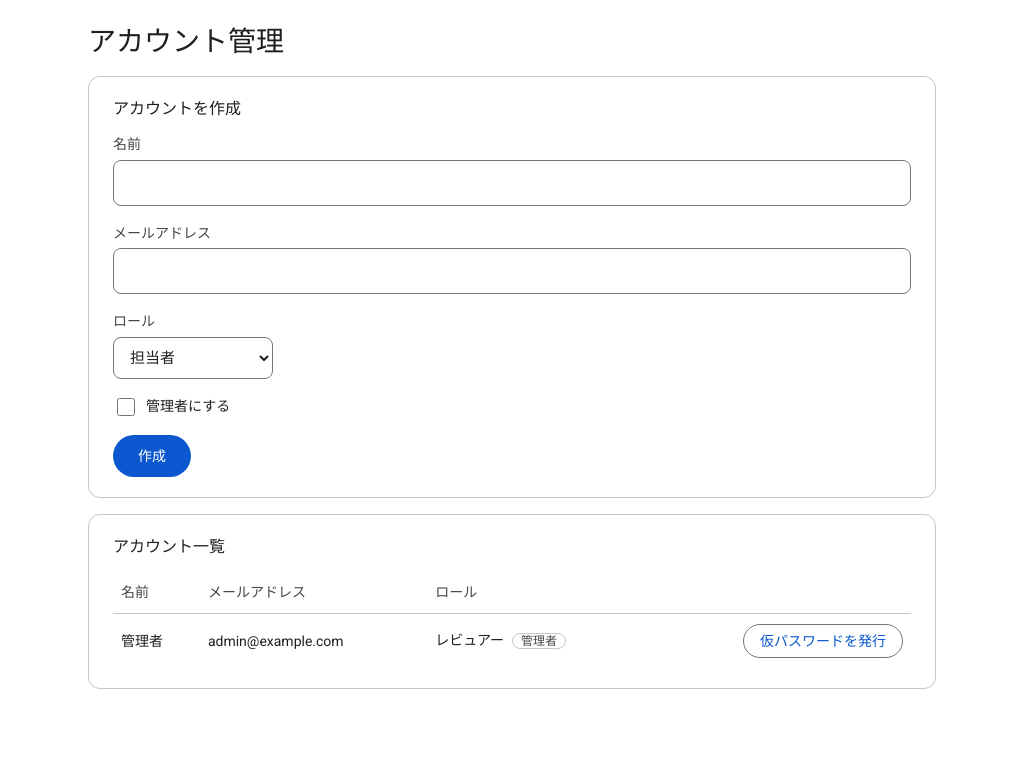
Test case: アカウント管理 › アカウントを作ると、仮パスワードを表示し、一覧に足す
Type "鈴木" into the field labelled "名前" at (512, 183), box x1=113 y1=160 x2=911 y2=206
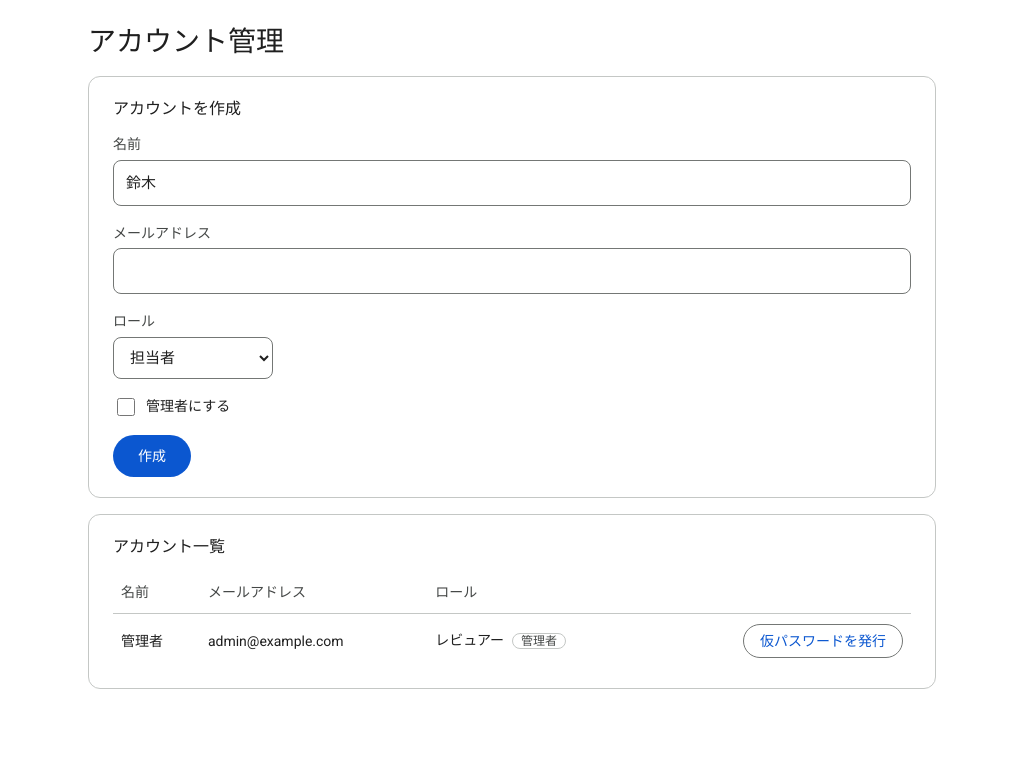
Type "suzuki@example.com" into the field labelled "メールアドレス" at (512, 271), box x1=113 y1=248 x2=911 y2=294
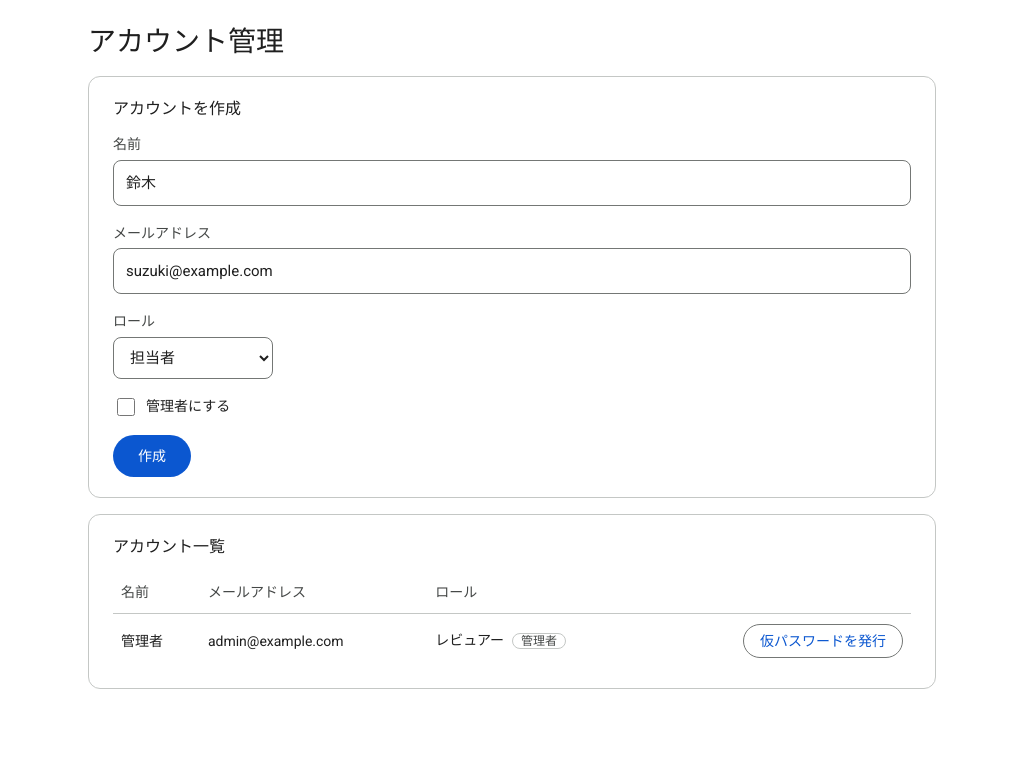
Select "レビュアー" in the dropdown labelled "ロール" at (193, 358), box x1=113 y1=337 x2=273 y2=379
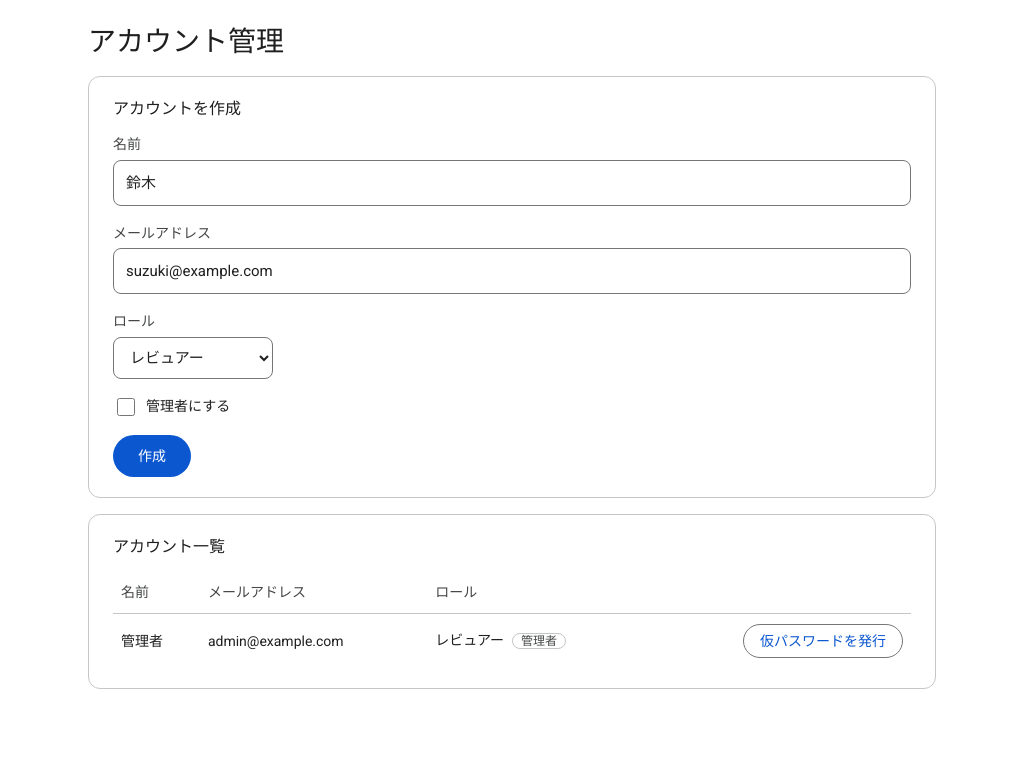
Click the button "作成" at (152, 456), box x1=113 y1=435 x2=191 y2=477
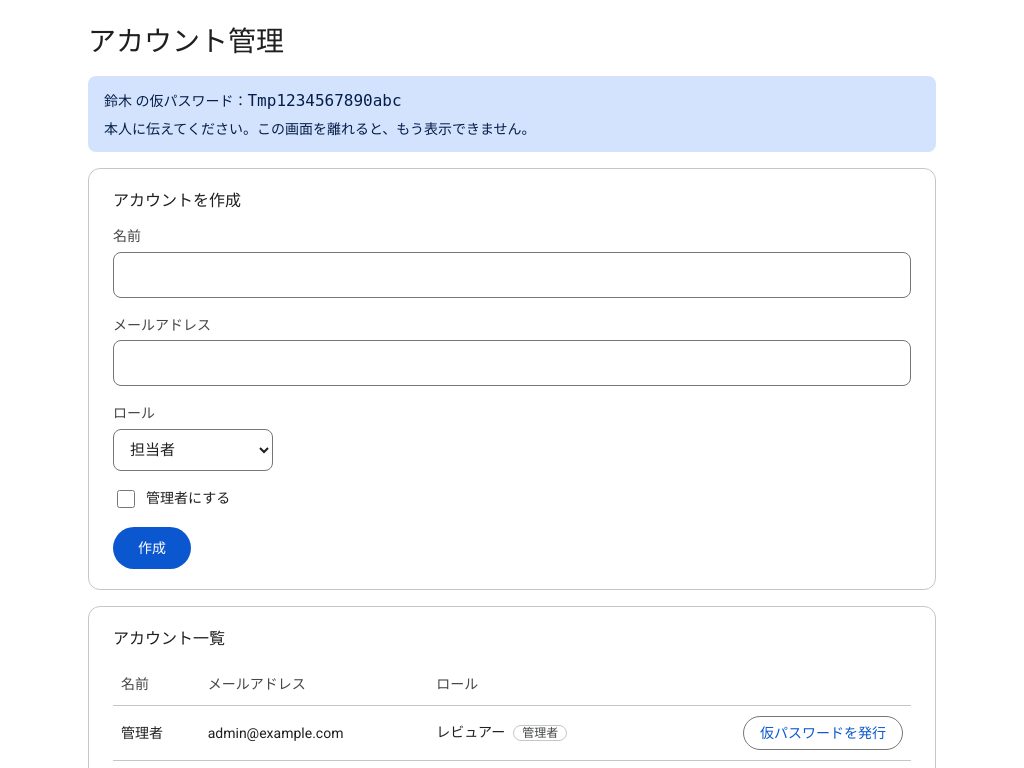
expect the message shows "鈴木 の仮パスワード": met, box x1=88 y1=76 x2=936 y2=152
expect the message shows "Tmp1234567890abc": met, box x1=248 y1=91 x2=402 y2=110
expect the message shows "この画面を離れると、もう表示できません": met, box x1=104 y1=121 x2=536 y2=137
